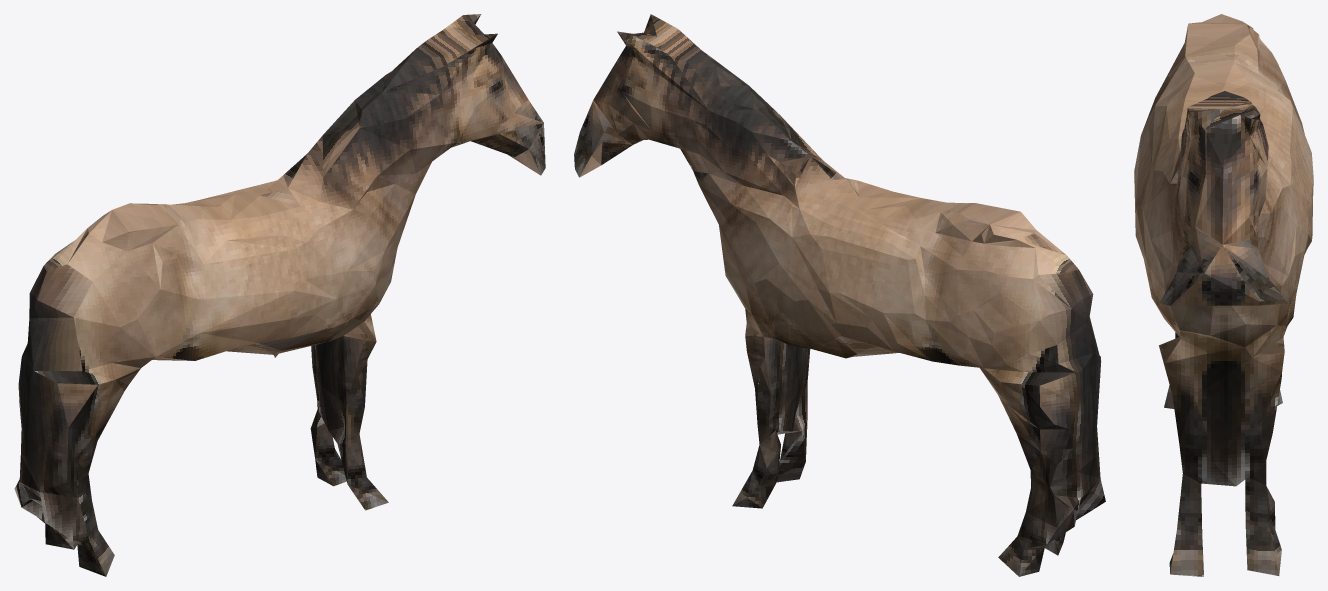
File: animal.montura.caballo_estepario_3.glb
3 renders of one model, left to right at view 1: azimuth 30°, elevation 25°; view 2: azimuth 150°, elevation 25°; view 3: azimuth 270°, elevation 25°, orthographic. The views are drawn at different scales.
Visible parts, largest first — view 1: animal.montura.caballo_estepario_3; view 2: animal.montura.caballo_estepario_3; view 3: animal.montura.caballo_estepario_3.
Boxes of the visible parts, <box> form: animal.montura.caballo_estepario_3: <box>14,14,545,576</box>; animal.montura.caballo_estepario_3: <box>574,14,1105,576</box>; animal.montura.caballo_estepario_3: <box>1134,14,1313,576</box>.
Size of the model in its own units: 2.34 by 1.93 by 0.5823.
1 material, 1 textured.
